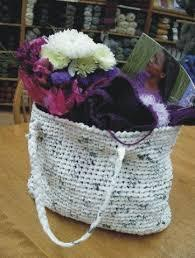Textile: (21, 96, 187, 252)
